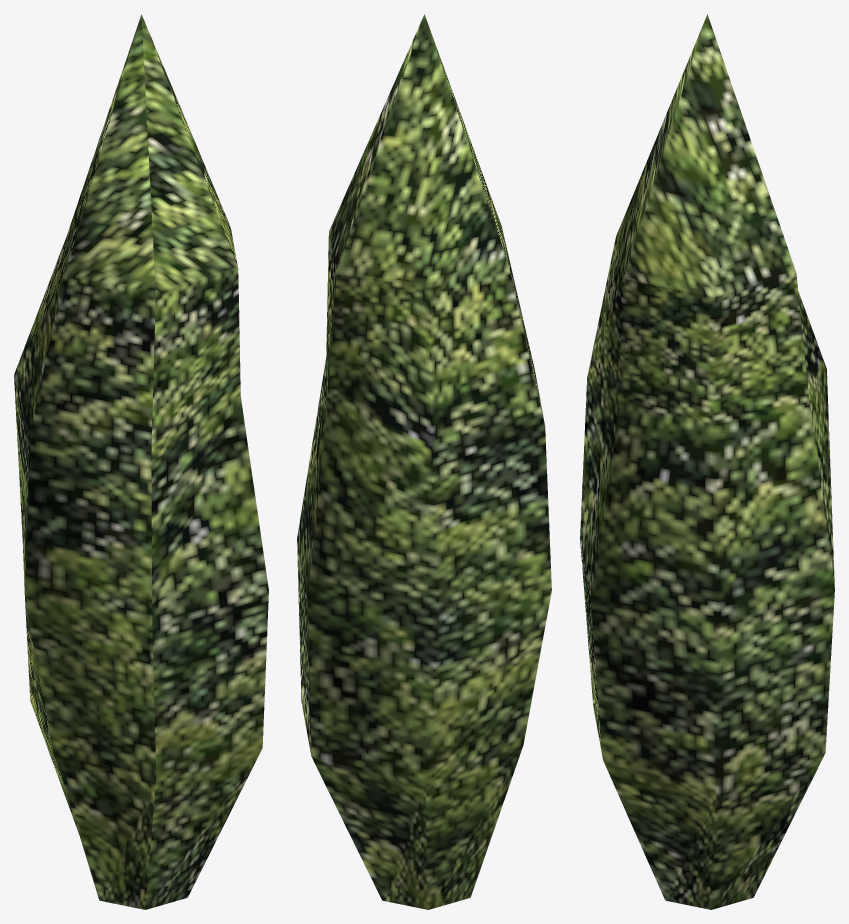
File: tree_cypress_sm.dae
3 renders of one model, left to right at view 1: azimuth 30°, elevation 25°; view 2: azimuth 150°, elevation 25°; view 3: azimuth 270°, elevation 25°, orthographic.
Visible parts, largest first — view 1: Cylinder04; view 2: Cylinder04; view 3: Cylinder04.
Part boxes in pixels (x1,y1,x2,y2): Cylinder04: (14, 14, 268, 909); Cylinder04: (297, 14, 551, 909); Cylinder04: (580, 14, 834, 909).
Bounding box in the file's own units: 1.86 × 1.68 × 6.35.
